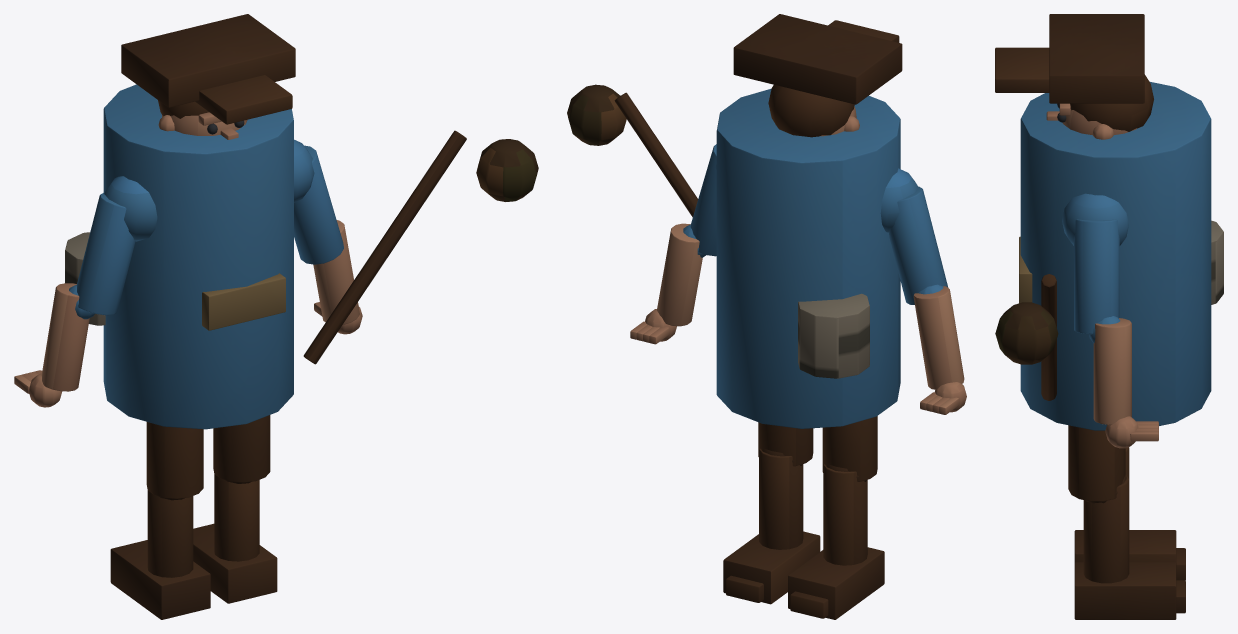
Rendered from unit_freetown_mudslinger.fbx.
3 views of the same model, side by side, from view 1: azimuth 30°, elevation 25°; view 2: azimuth 150°, elevation 25°; view 3: azimuth 270°, elevation 25° (orthographic). The views are drawn at different scales.
Parts seen in each view (by area): view 1: unit_freetown_mudslinger; view 2: unit_freetown_mudslinger; view 3: unit_freetown_mudslinger.
Part boxes in pixels (x1,y1,x2,y2): unit_freetown_mudslinger: [14, 14, 538, 619]; unit_freetown_mudslinger: [567, 14, 966, 619]; unit_freetown_mudslinger: [995, 14, 1223, 619].
Size of the model in its own units: 1.64 by 1.9 by 0.7192.
